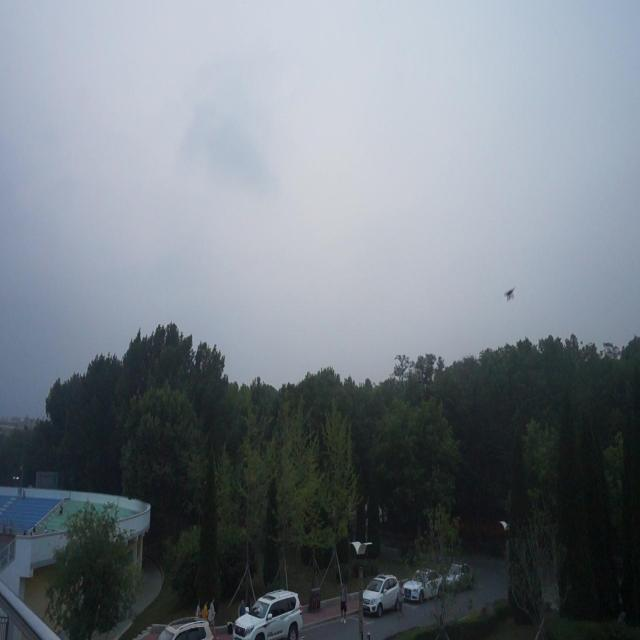drone: (502, 285, 516, 301)
